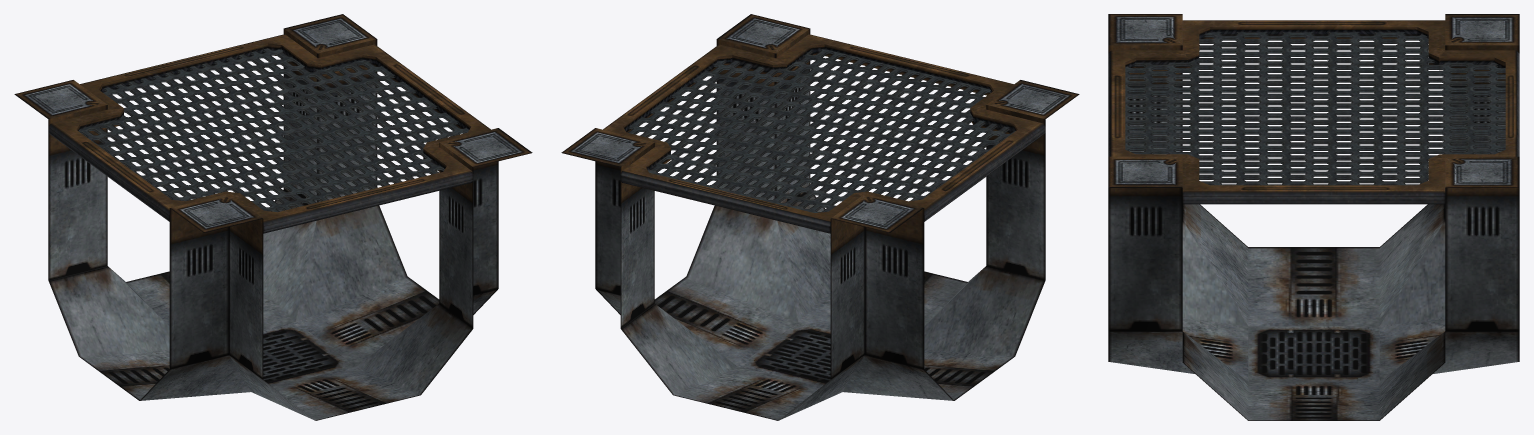
Rendered from tunnel_4way_metal.dae.
3 views of the same model, side by side, from view 1: azimuth 30°, elevation 25°; view 2: azimuth 150°, elevation 25°; view 3: azimuth 270°, elevation 25° (orthographic). The views are drawn at different scales.
Visible parts, largest first — view 1: polySurface7, pPlane8, pPlane15; view 2: polySurface7, pPlane8, pPlane15; view 3: polySurface7, pPlane8, pPlane15.
Part boxes in pixels (x1,y1,x2,y2): polySurface7: (14, 14, 532, 420); pPlane8: (78, 48, 468, 212); pPlane15: (80, 51, 465, 211); polySurface7: (561, 14, 1079, 420); pPlane8: (628, 49, 1015, 212); pPlane15: (629, 52, 1009, 211); polySurface7: (1108, 14, 1519, 420); pPlane8: (1125, 32, 1505, 185); pPlane15: (1128, 34, 1505, 185).
Size of the model in its own units: 2 by 1.36 by 2.
